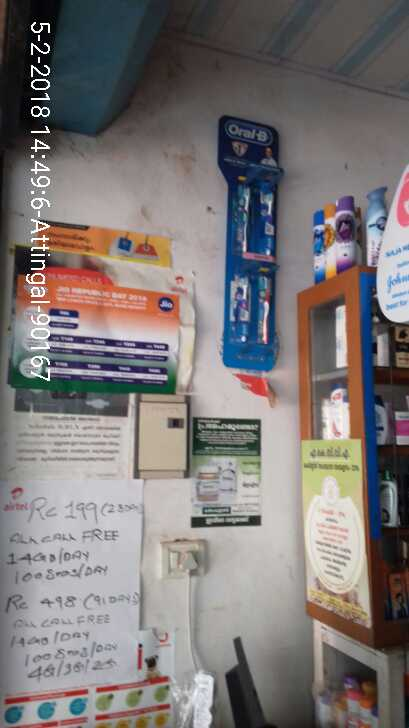oralb: (229, 259, 251, 347), (256, 175, 279, 259), (229, 171, 251, 253), (257, 264, 274, 345)
